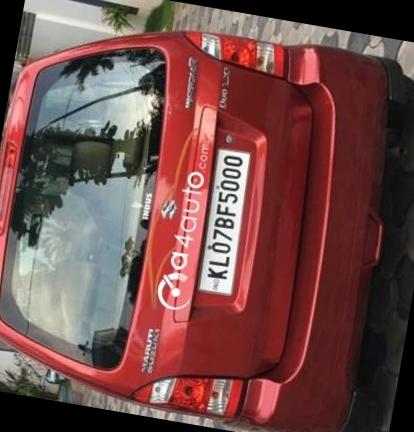plate: (185, 132, 265, 306)
